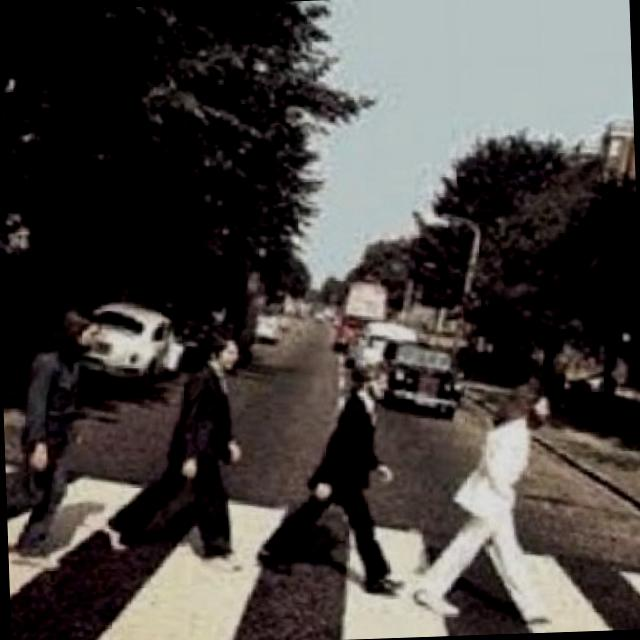Person: (94, 321, 250, 575), (405, 372, 564, 614), (256, 356, 406, 595), (0, 305, 103, 577)
